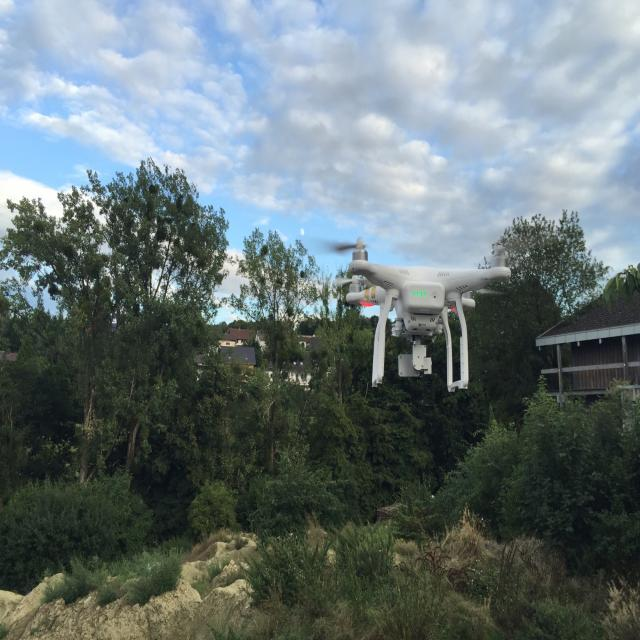drone: (333, 231, 512, 392)
